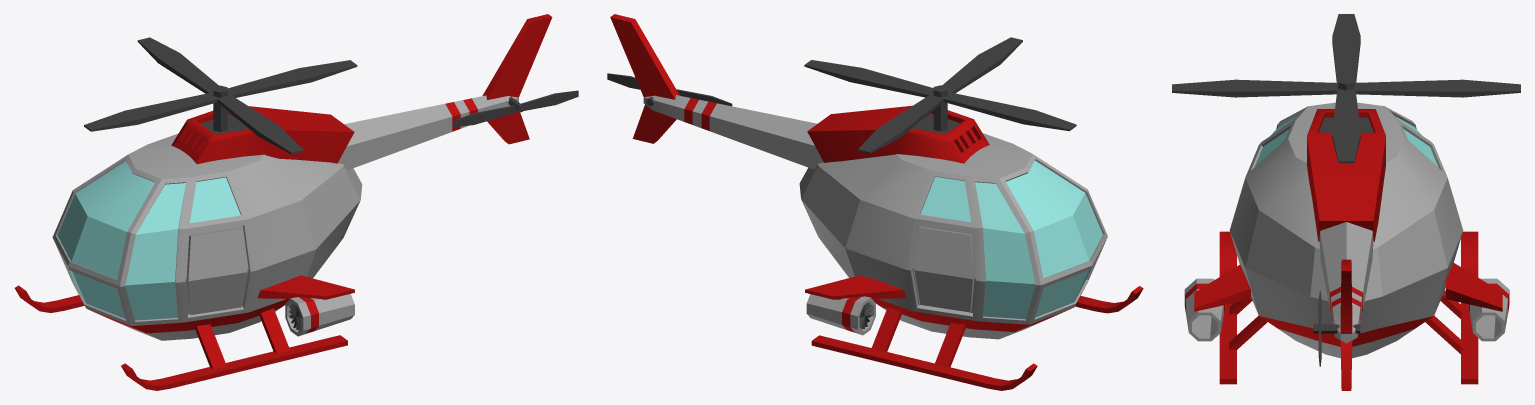
The model's file is chopper.dae.
3 renders of one model, left to right at view 1: azimuth 30°, elevation 25°; view 2: azimuth 150°, elevation 25°; view 3: azimuth 270°, elevation 25°, orthographic. The views are drawn at different scales.
Visible parts, largest first — view 1: Body, blade (×3), Motor, Tail, skid, tail, Tube, Legs (×2), fin, tail1, skid.1, Cylinder; view 2: Body, blade (×3), Motor, Tail, skid.1, tail, Tube.1, fin.1, Legs (×2), tail1, skid, Cylinder; view 3: Body, blade (×2), Motor, Tail, skid.1, skid, fin.1, fin, Tube, Legs (×2), Tube.1, tail (+2 smaller).
Part boxes in pixels (left/top/right/bottom): Body: left=52, top=134, right=362, bottom=340; blade (×3): left=84, top=37, right=578, bottom=154; Motor: left=171, top=106, right=354, bottom=164; Tail: left=338, top=95, right=518, bottom=170; skid: left=121, top=335, right=347, bottom=390; tail: left=482, top=14, right=552, bottom=99; Tube: left=285, top=294, right=354, bottom=336; Legs (×2): left=195, top=308, right=290, bottom=369; fin: left=257, top=275, right=354, bottom=299; tail1: left=487, top=112, right=529, bottom=144; skid.1: left=14, top=285, right=84, bottom=312; Cylinder: left=213, top=85, right=227, bottom=131; Body: left=799, top=133, right=1107, bottom=339; blade (×3): left=607, top=37, right=1076, bottom=153; Motor: left=807, top=105, right=989, bottom=163; Tail: left=643, top=95, right=823, bottom=169; skid.1: left=811, top=335, right=1037, bottom=390; tail: left=610, top=14, right=679, bottom=99; Tube.1: left=806, top=294, right=875, bottom=335; fin.1: left=805, top=275, right=906, bottom=299; Legs (×2): left=871, top=307, right=966, bottom=367; tail1: left=632, top=104, right=676, bottom=143; skid: left=1075, top=286, right=1143, bottom=313; Cylinder: left=933, top=85, right=947, bottom=131; Body: left=1229, top=102, right=1463, bottom=358; blade (×2): left=1172, top=14, right=1520, bottom=163; Motor: left=1307, top=109, right=1385, bottom=241; Tail: left=1319, top=222, right=1373, bottom=343; skid.1: left=1461, top=231, right=1478, bottom=384; skid: left=1219, top=231, right=1236, bottom=384; fin.1: left=1446, top=262, right=1502, bottom=311; fin: left=1194, top=264, right=1250, bottom=311; Tube: left=1184, top=278, right=1225, bottom=341; Legs (×2): left=1229, top=290, right=1463, bottom=353; Tube.1: left=1468, top=278, right=1509, bottom=341; tail: left=1340, top=259, right=1352, bottom=333.
Bounding box in the file's own units: 559 × 250 × 299.
